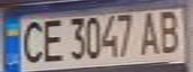0: (81, 14, 103, 61)
3: (63, 15, 87, 61)
4: (100, 11, 121, 58)
7: (115, 11, 139, 57)
A: (136, 9, 163, 55)
B: (154, 7, 187, 54)
C: (15, 18, 45, 65)
E: (36, 16, 66, 64)
